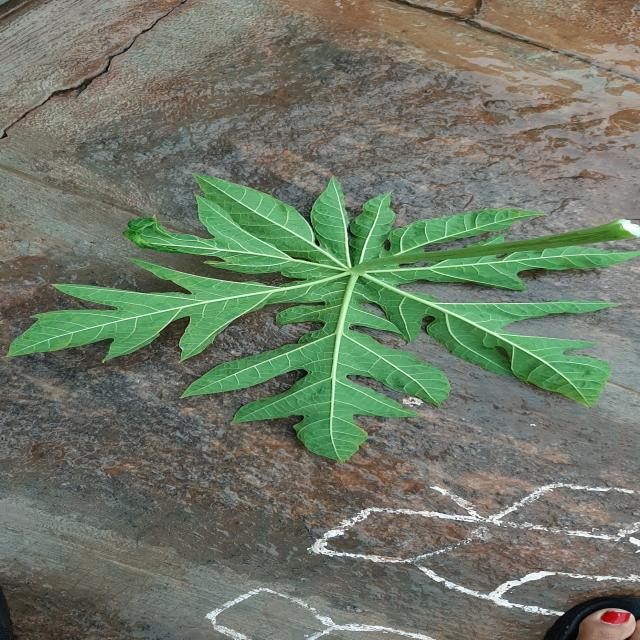papaya: (8, 175, 639, 461)
